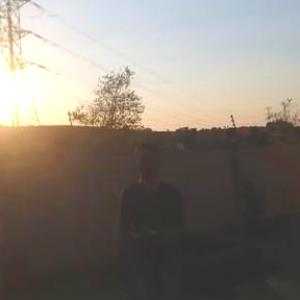follow: (114, 136, 188, 299)
